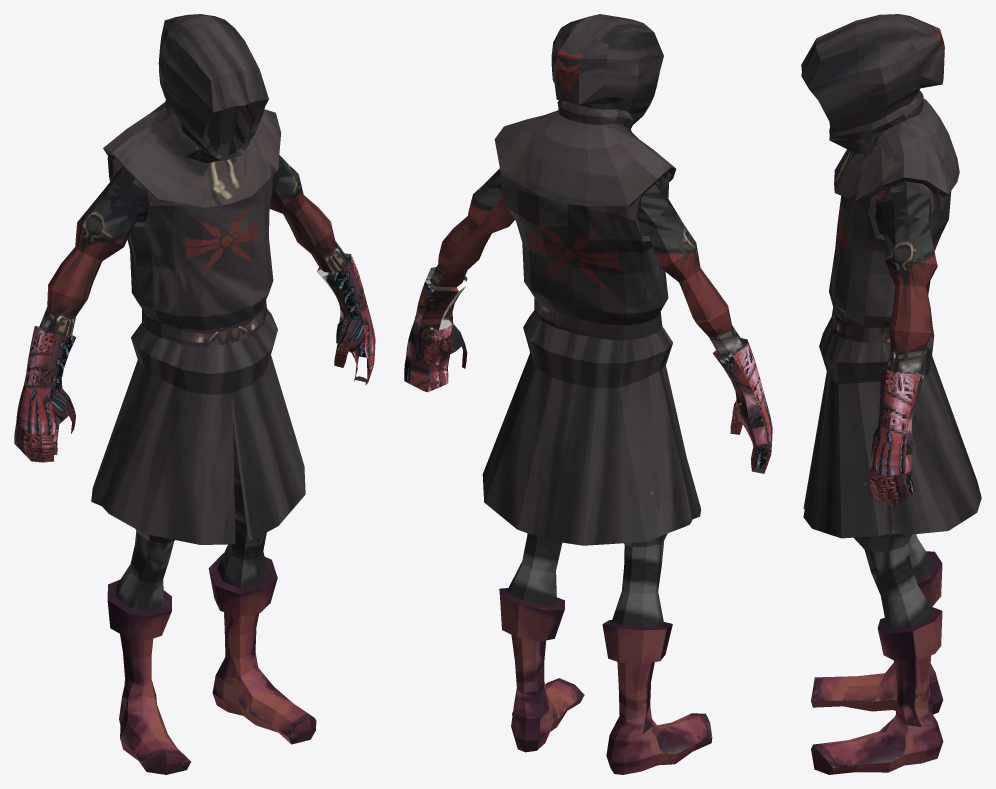
File: Cultist.fbx
3 views of the same model, side by side, from view 1: azimuth 30°, elevation 25°; view 2: azimuth 150°, elevation 25°; view 3: azimuth 270°, elevation 25° (orthographic).
Visible parts, largest first — view 1: uploads_files_673907_base+mesh.002; view 2: uploads_files_673907_base+mesh.002; view 3: uploads_files_673907_base+mesh.002.
Part boxes in pixels (x1,y1,x2,y2): uploads_files_673907_base+mesh.002: [14, 14, 375, 774]; uploads_files_673907_base+mesh.002: [404, 14, 772, 774]; uploads_files_673907_base+mesh.002: [801, 14, 981, 774].
Bounding box in the file's own units: 208 × 397 × 90.71.
